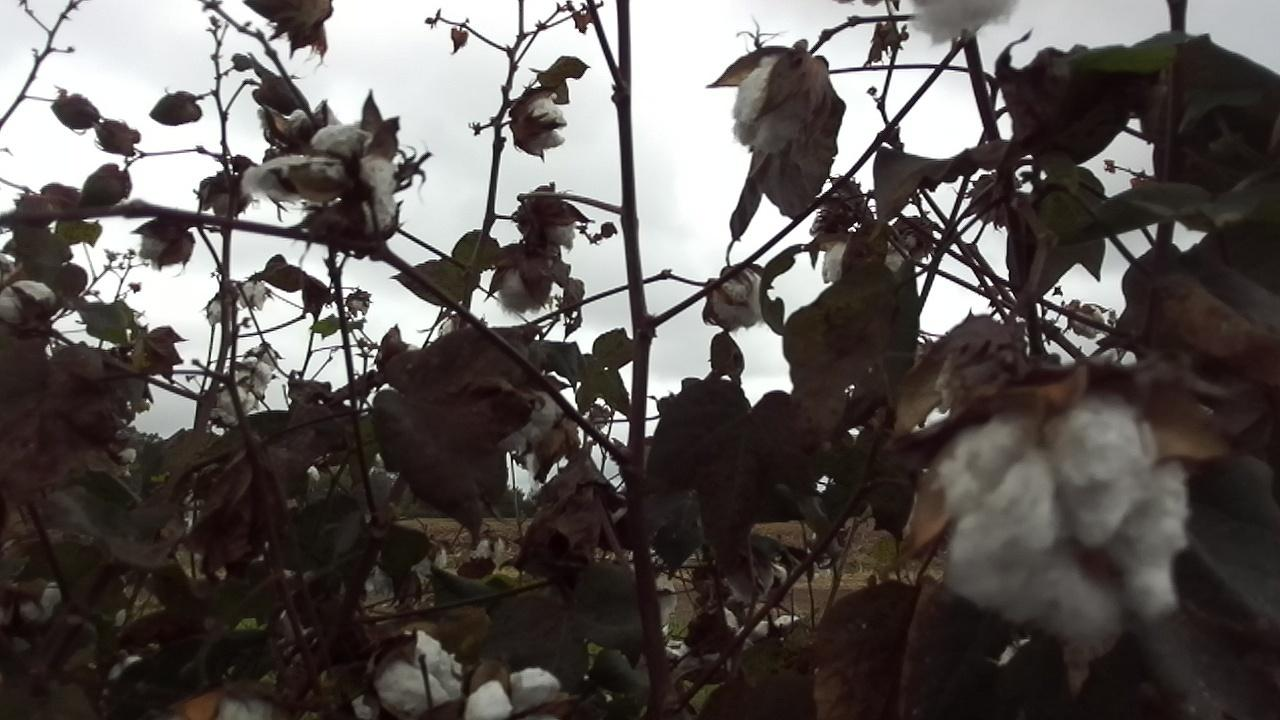cotton_ready: (934, 399, 1193, 652), (245, 122, 398, 240), (732, 50, 814, 149), (372, 630, 461, 720), (460, 664, 557, 720), (912, 0, 1017, 47), (704, 263, 766, 331), (493, 246, 553, 313), (242, 0, 339, 33), (521, 198, 578, 251), (0, 276, 57, 327), (519, 86, 565, 149), (820, 238, 862, 285)
